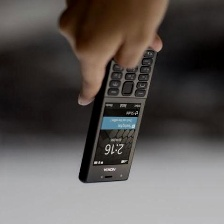phone: (77, 42, 165, 184)
